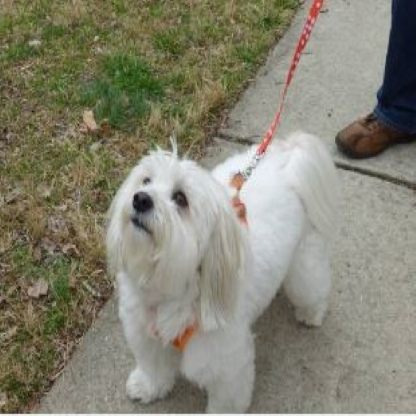maltese: (95, 129, 333, 413)
